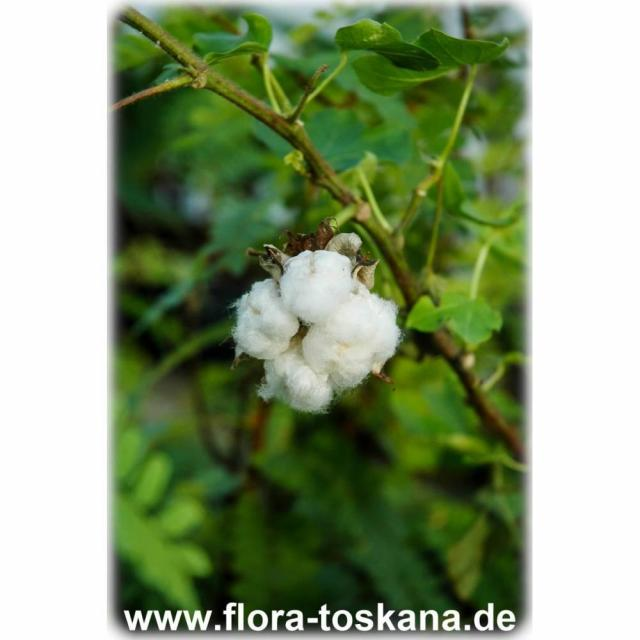Early_blight: (223, 235, 409, 424)
